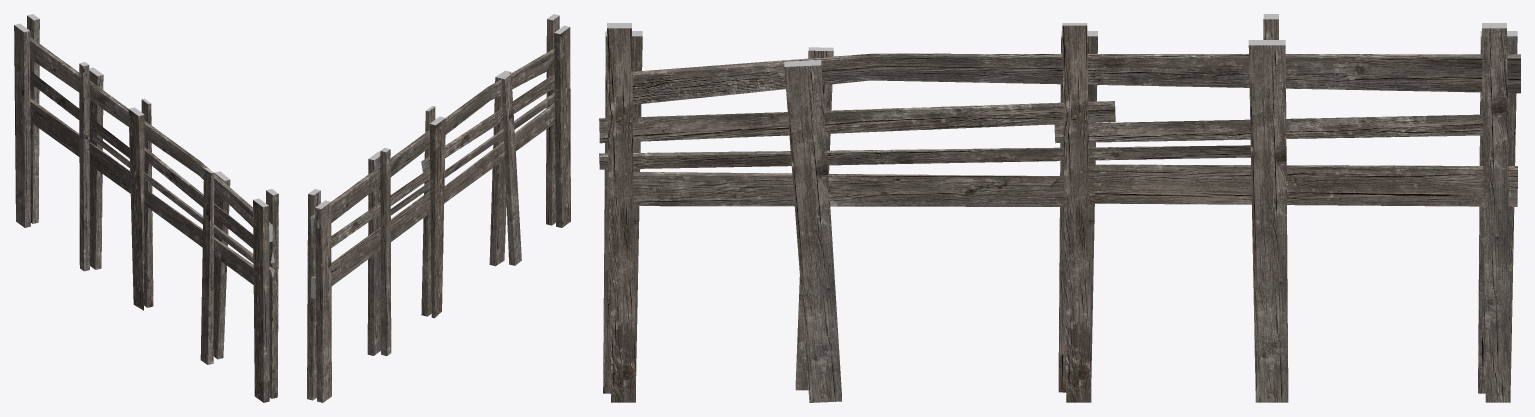
Rendered from Fence1B_LOD1.fbx.
The picture shows the model from 3 angles, left to right: view 1: azimuth 30°, elevation 25°; view 2: azimuth 150°, elevation 25°; view 3: azimuth 270°, elevation 25°; orthographic projection. The views are drawn at different scales.
Visible parts, largest first — view 1: polySurface632; view 2: polySurface632; view 3: polySurface632.
Boxes of the visible parts, box(x1,y1,x2,y2) form: polySurface632: box(14, 14, 278, 402); polySurface632: box(307, 14, 570, 402); polySurface632: box(599, 14, 1520, 402).
Size of the model in its own units: 0.2055 by 2.03 by 4.53.
